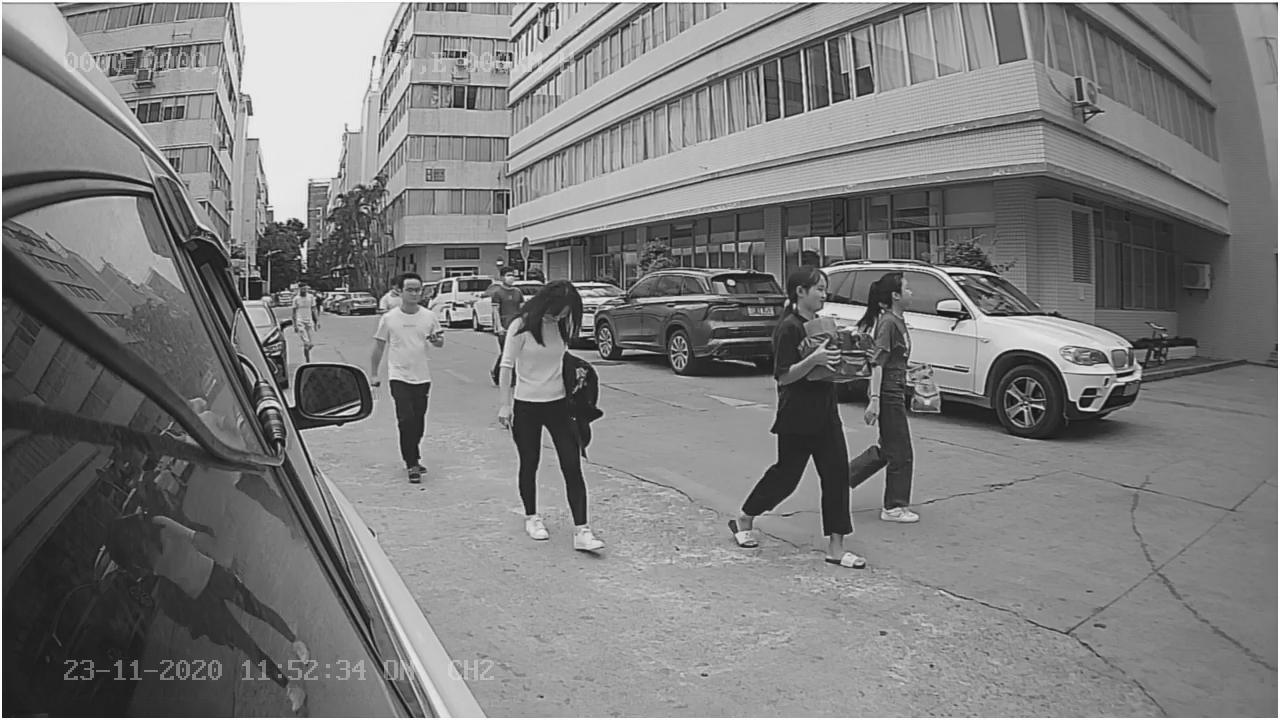person: (494, 277, 607, 540), (376, 269, 435, 479)
